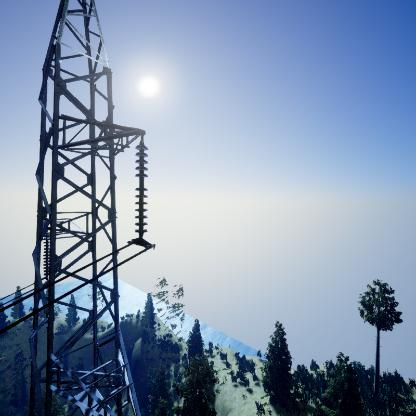insulator: (133, 143, 151, 238)
